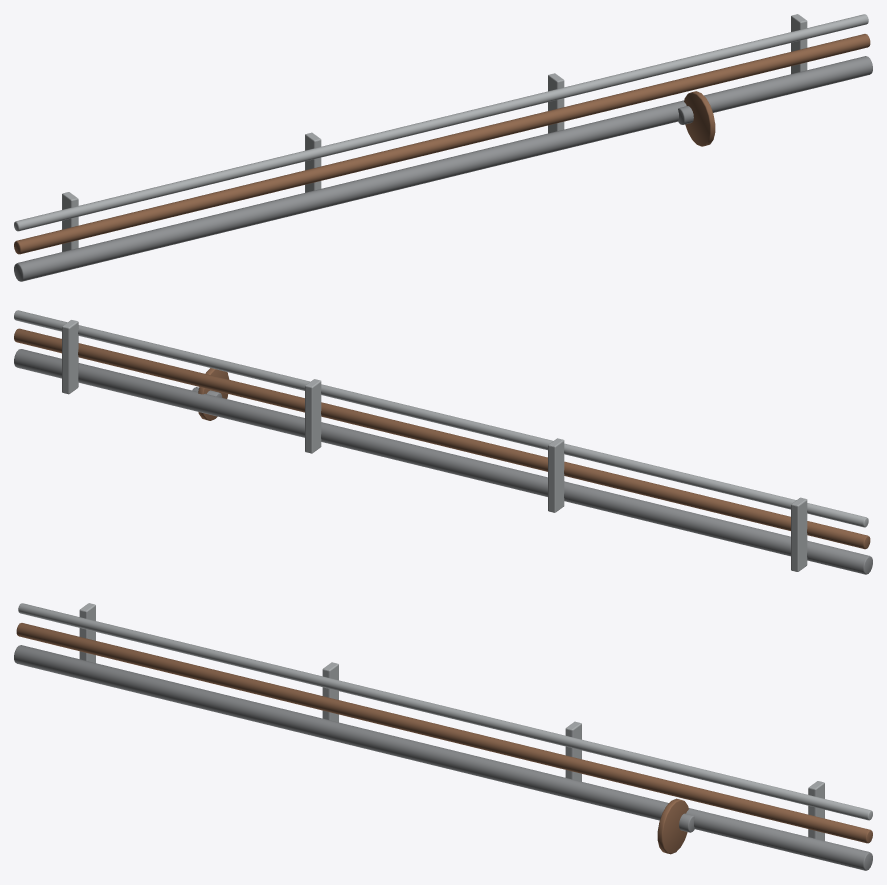
Rendered from prop_pipe_run.glb.
3 views of the same model, one above another, from view 1: azimuth 30°, elevation 25°; view 2: azimuth 150°, elevation 25°; view 3: azimuth 330°, elevation 25° (orthographic).
Visible parts, largest first — view 1: Cylinder, Cylinder.001, Cylinder.002, Cylinder.003, Cube, Cube.001, Cube.002, Cube.003; view 2: Cylinder, Cylinder.001, Cylinder.002, Cube.003, Cube.002, Cube.001, Cube; view 3: Cylinder, Cylinder.001, Cylinder.002, Cylinder.003, Cube.003, Cube.001, Cube.002, Cube.
Boxes of the visible parts, box(x1,y1,x2,y2) form: Cylinder: box(14, 56, 872, 281); Cylinder.001: box(14, 34, 870, 254); Cylinder.002: box(14, 14, 868, 231); Cylinder.003: box(684, 91, 715, 146); Cube: box(62, 192, 78, 251); Cube.001: box(305, 132, 321, 192); Cube.002: box(548, 73, 564, 133); Cube.003: box(791, 14, 807, 73); Cylinder: box(14, 349, 872, 574); Cylinder.001: box(14, 328, 870, 549); Cylinder.002: box(14, 310, 868, 527); Cube.003: box(62, 320, 78, 394); Cube.002: box(305, 379, 321, 453); Cube.001: box(548, 438, 564, 512); Cube: box(791, 497, 807, 571); Cylinder: box(14, 645, 872, 870); Cylinder.001: box(16, 623, 872, 843); Cylinder.002: box(18, 603, 872, 820); Cylinder.003: box(657, 798, 688, 854); Cube.003: box(808, 781, 824, 840); Cube.001: box(322, 662, 338, 722); Cube.002: box(565, 721, 581, 781); Cube: box(79, 603, 95, 662).
Bounding box in the file's own units: 5.6 × 0.51 × 0.4576.
